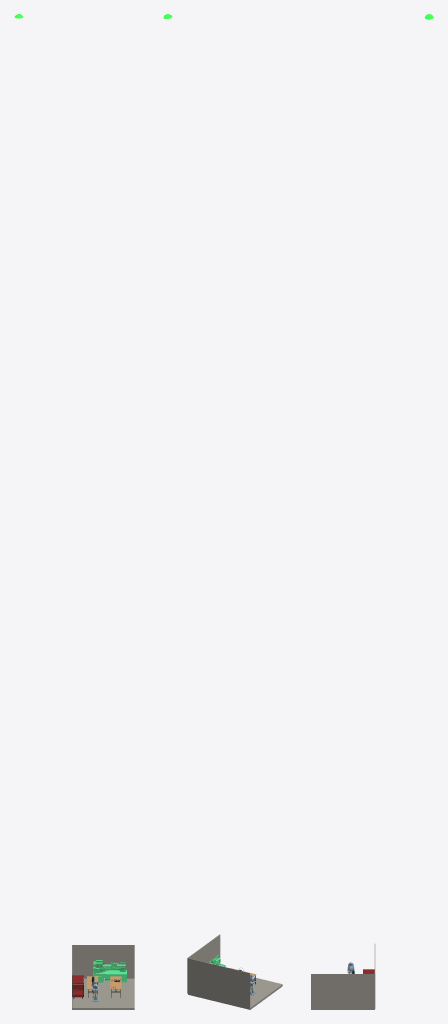
File: tecnologiaMantenimiento.glb
The picture shows the model from 3 angles, left to right: view 1: azimuth 90°, elevation 25°; view 2: azimuth 150°, elevation 25°; view 3: azimuth 270°, elevation 25°; orthographic projection. The views are drawn at different scales.
Visible parts, largest first — view 1: Cube.002, Cube; view 2: Cube.001, Cube, Cube.002; view 3: Cube.002.
Boxes of the visible parts, bbox=[...] form: Cube.002: bbox=[72, 945, 134, 978]; Cube: bbox=[72, 978, 134, 1009]; Cube.001: bbox=[187, 958, 250, 1008]; Cube: bbox=[188, 978, 282, 1009]; Cube.002: bbox=[187, 934, 220, 993]; Cube.002: bbox=[311, 974, 374, 1009].
Size of the model in its own units: 13.96 by 212 by 23.82.
Materials: 25 (12 with a texture image).
